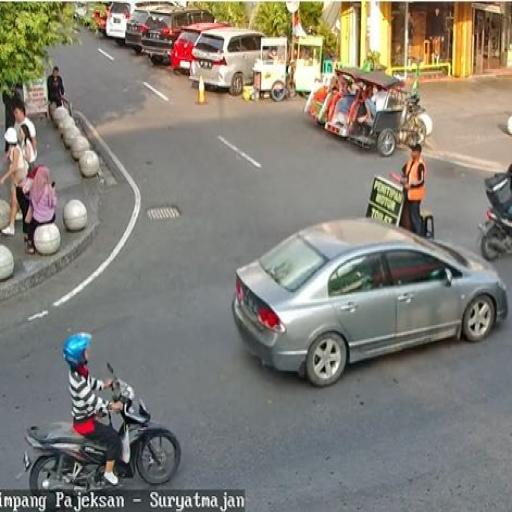mobil: (233, 218, 512, 388), (195, 21, 270, 97), (143, 7, 220, 63), (172, 18, 228, 74)
motor: (18, 368, 184, 491)
